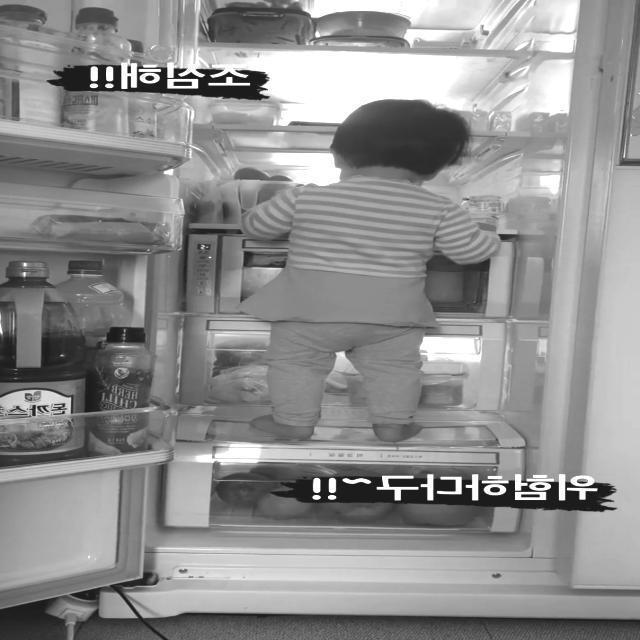child: (244, 99, 500, 445)
